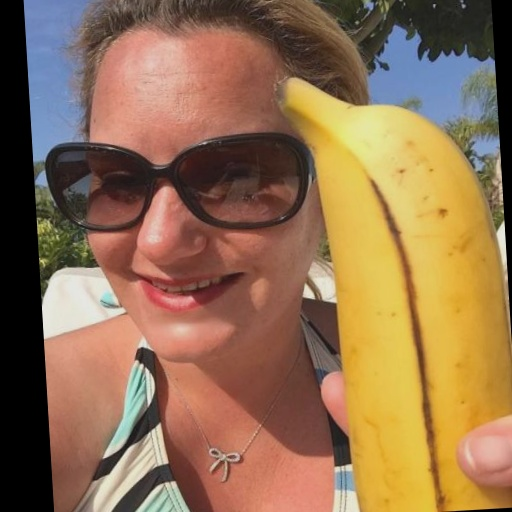fruit: (277, 79, 512, 512)
